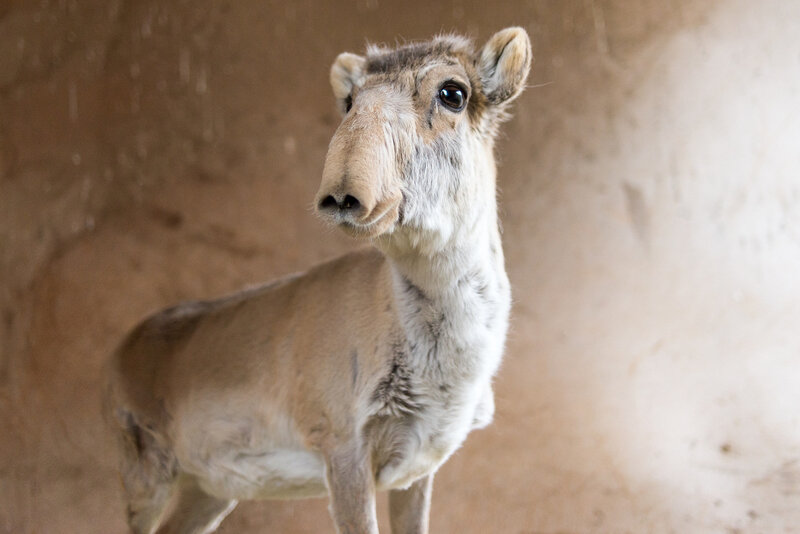saiga: (97, 25, 536, 534)
